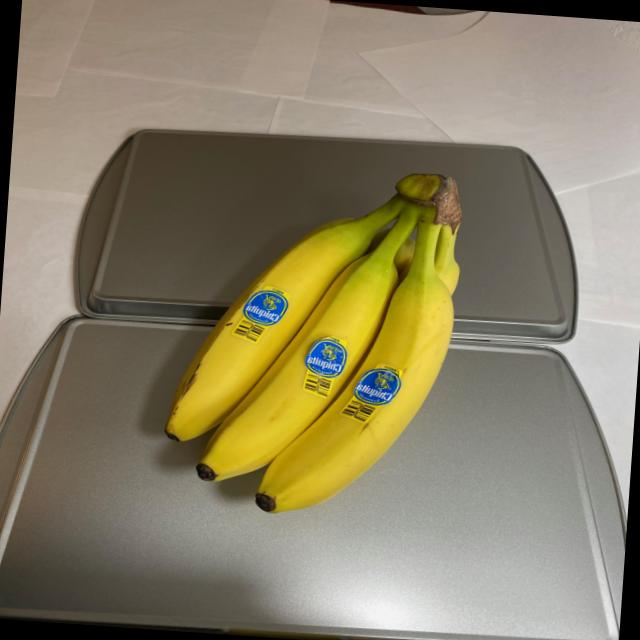banana: (157, 153, 476, 533)
